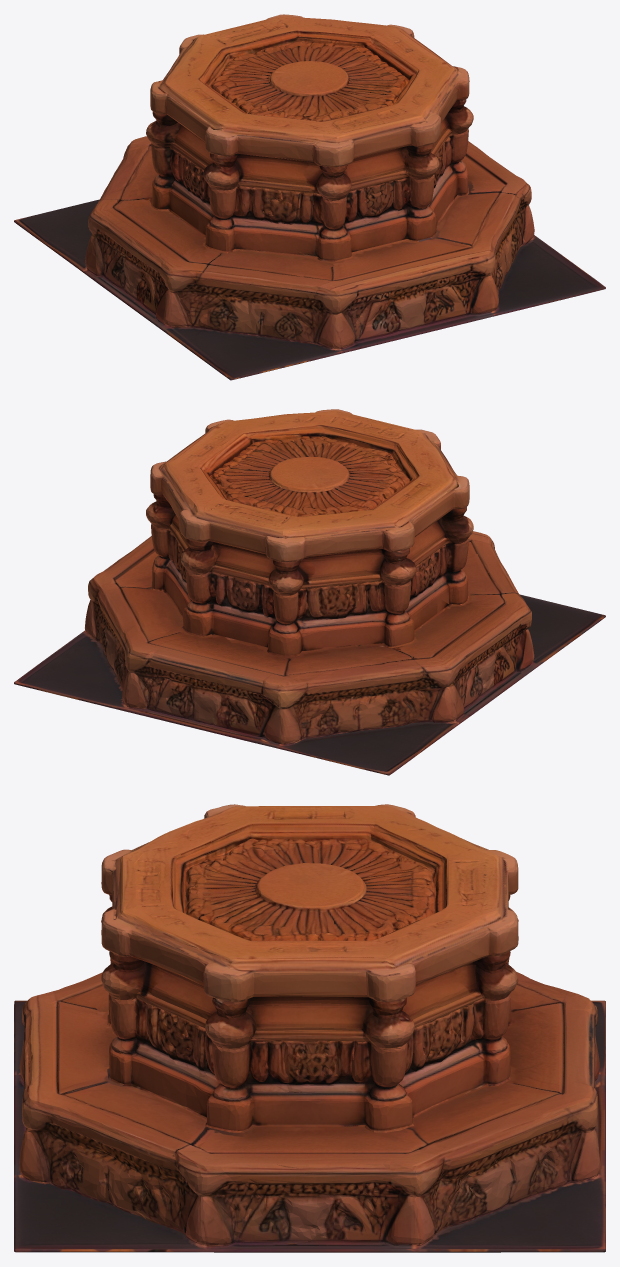
The model's file is carved-shrine-pedestal-optimized.glb.
3 renders of one model, top to bottom at view 1: azimuth 30°, elevation 25°; view 2: azimuth 150°, elevation 25°; view 3: azimuth 270°, elevation 25°, orthographic. The views are drawn at different scales.
Visible parts, largest first — view 1: eca737b4-5bd1-4970-b2a8-8085d9d27dbf_texturing; view 2: eca737b4-5bd1-4970-b2a8-8085d9d27dbf_texturing; view 3: eca737b4-5bd1-4970-b2a8-8085d9d27dbf_texturing.
Part boxes in pixels (<box>): eca737b4-5bd1-4970-b2a8-8085d9d27dbf_texturing: <box>14,14,605,380</box>; eca737b4-5bd1-4970-b2a8-8085d9d27dbf_texturing: <box>14,409,605,775</box>; eca737b4-5bd1-4970-b2a8-8085d9d27dbf_texturing: <box>14,804,605,1252</box>.
Size of the model in its own units: 1.99 by 0.9202 by 1.99.
Materials: 1 (1 with a texture image).
